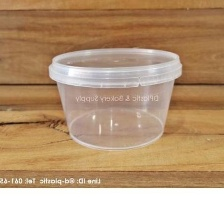plastic_box: (43, 40, 187, 153)
